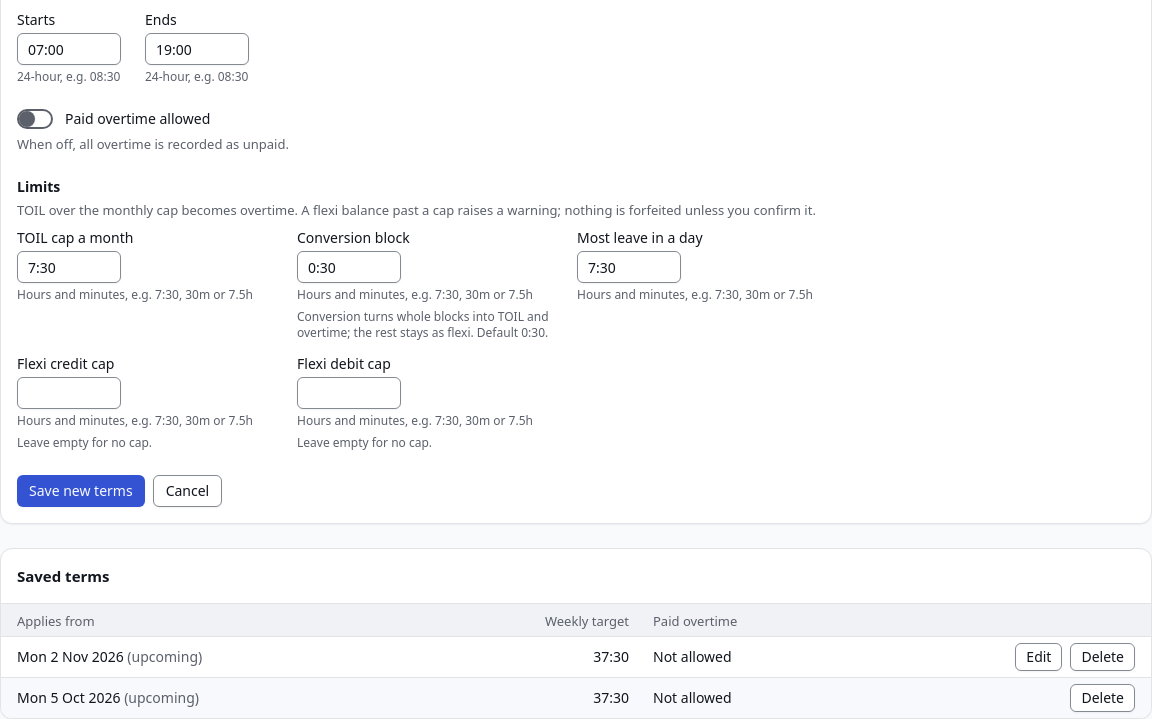
Scenario: TermsTab › deletes terms at once, offers undo, and restores them
(page scrolled)
Click the button named "Delete terms from Mon 5 Oct 2026" at [1103, 698], box x1=1070 y1=684 x2=1135 y2=712
(page scrolled)
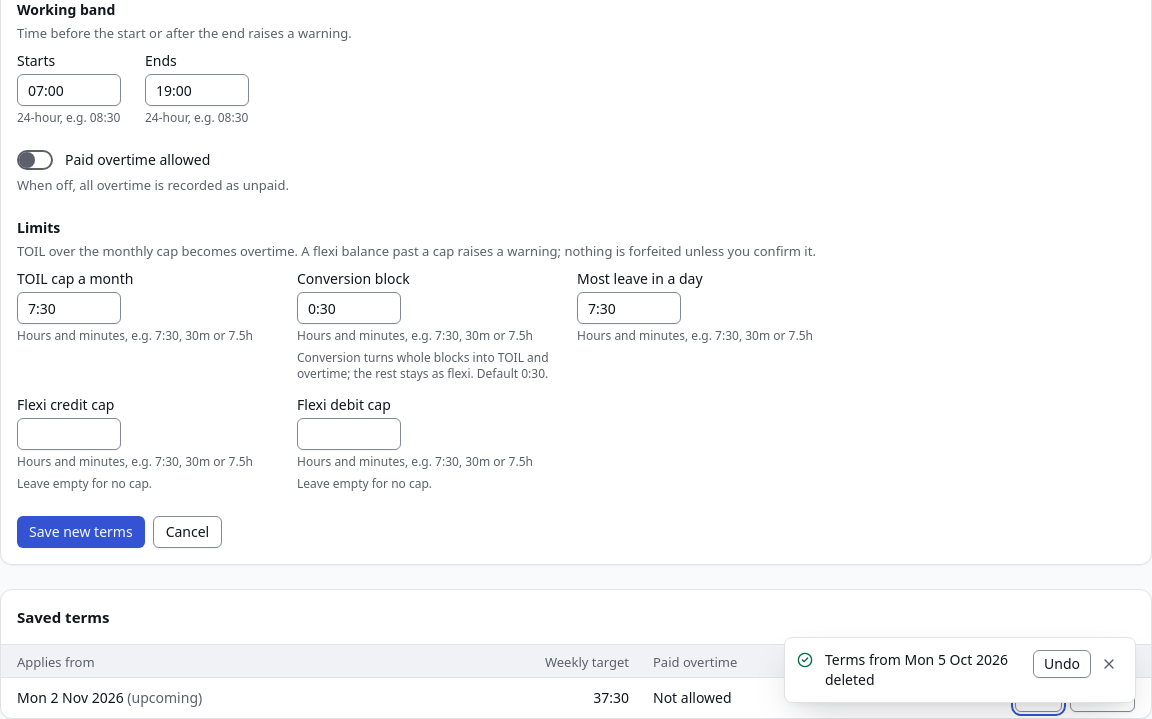
Check: the button "Delete terms from Mon 5 Oct 2026" is not shown
Check: the text "Terms from Mon 5 Oct 2026 deleted" is shown, box x1=825 y1=650 x2=1021 y2=690
Click the button "Undo" at [1062, 664], box x1=1033 y1=650 x2=1091 y2=678
(page scrolled)
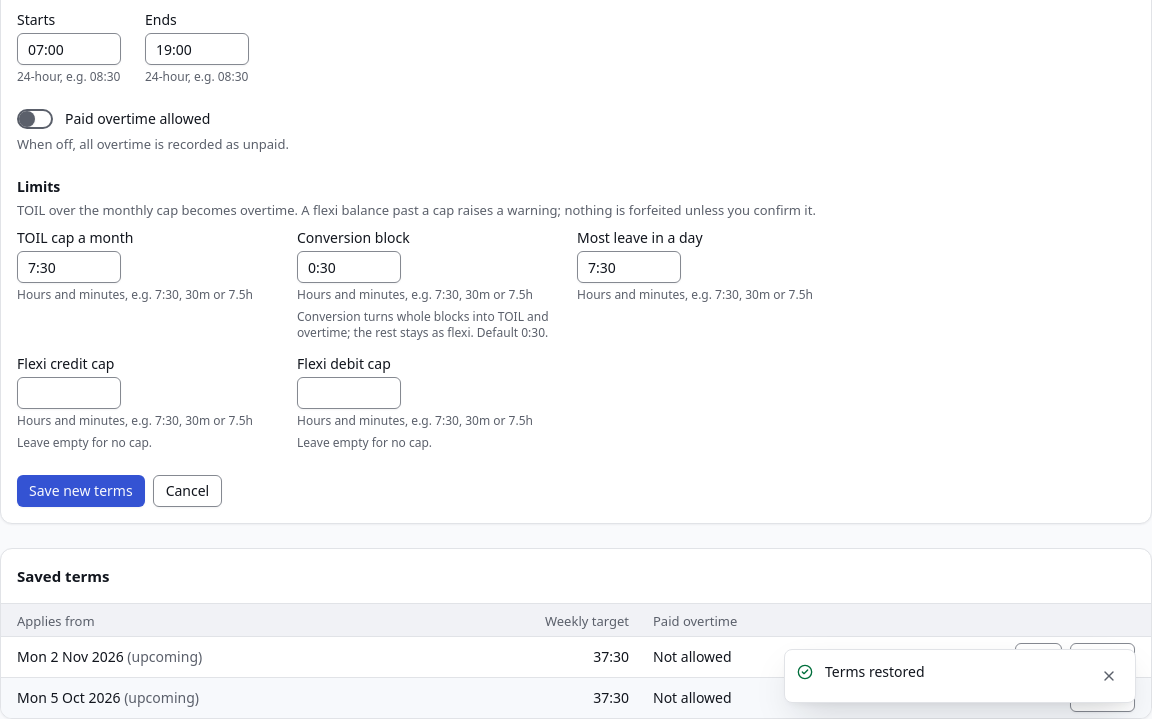
Check: the button named "Delete terms from Mon 5 Oct 2026" is shown, box x1=1070 y1=684 x2=1135 y2=712
Check: the text "Terms restored" is shown, box x1=825 y1=662 x2=925 y2=681
